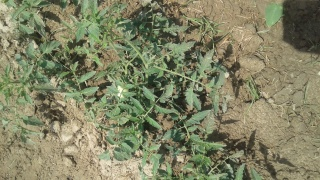tomato flower: (111, 80, 134, 100)
tomato plant: (116, 13, 222, 145), (18, 3, 106, 99)
